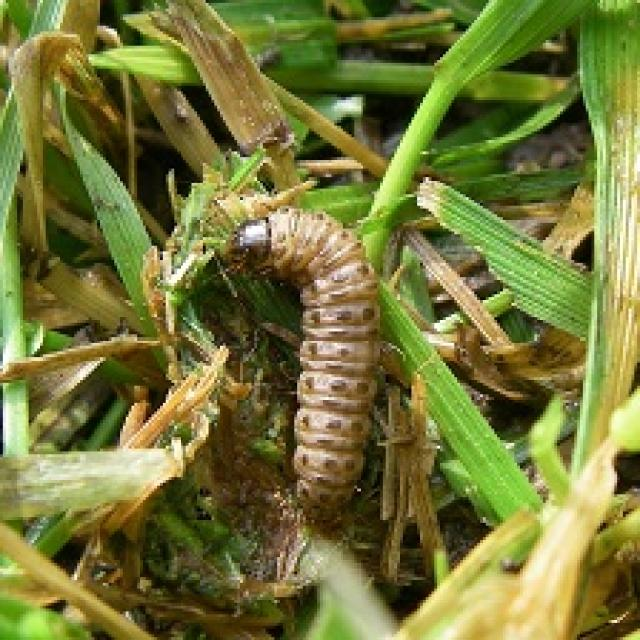Fall-armyworm: (233, 213, 386, 542)
